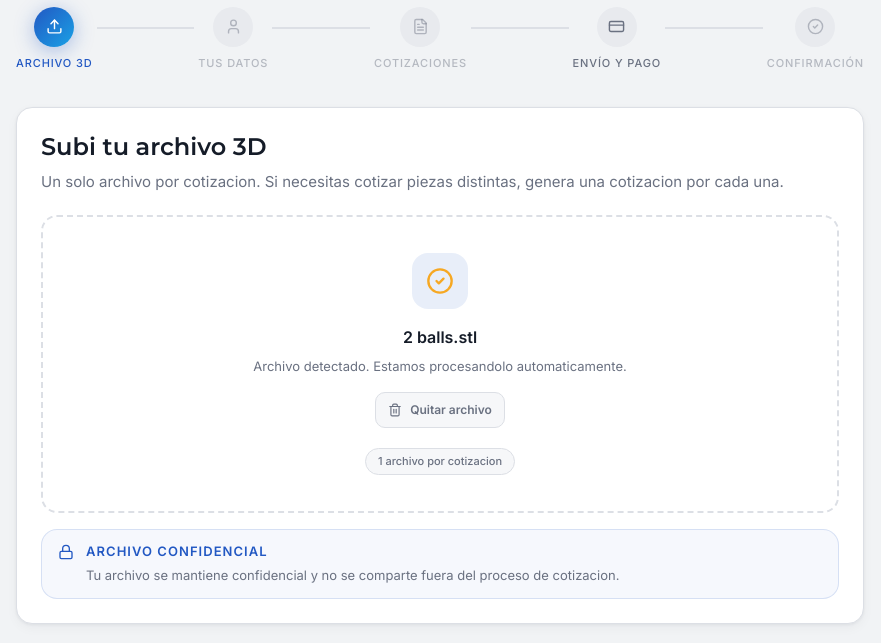
Test: QuoteSection saved upload restore › clears a restored upload when the user removes the file
(page scrolled)
expect the text "2 balls.stl" is shown: met, box [403,325,477,349]
Step 1. Click the button "Quitar archivo" → x=440, y=410, box [375,392,505,428]
(page scrolled)
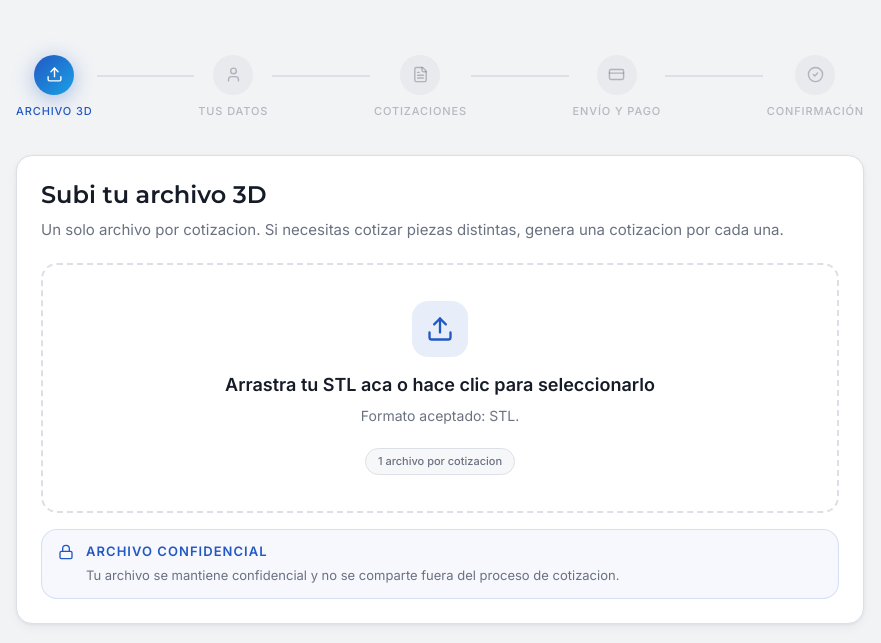
expect the text "Arrastra tu STL aca o hace clic para seleccionarlo" is shown: met, box [225,373,655,398]
